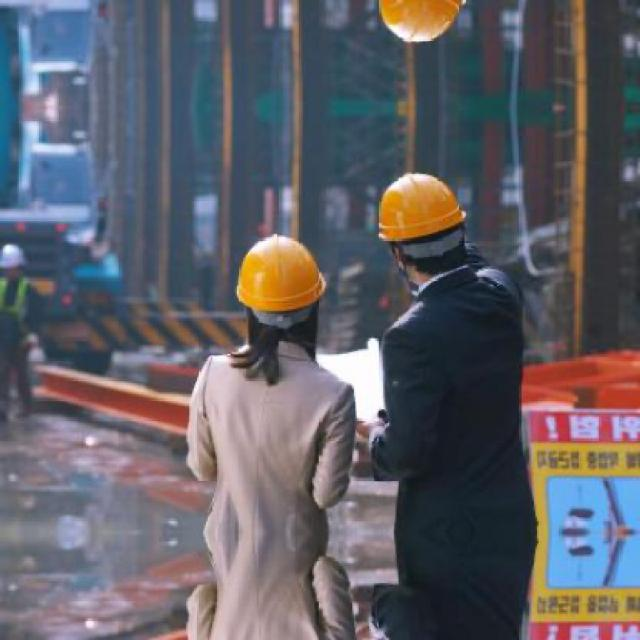con casco: (200, 220, 347, 382), (383, 155, 524, 320)
